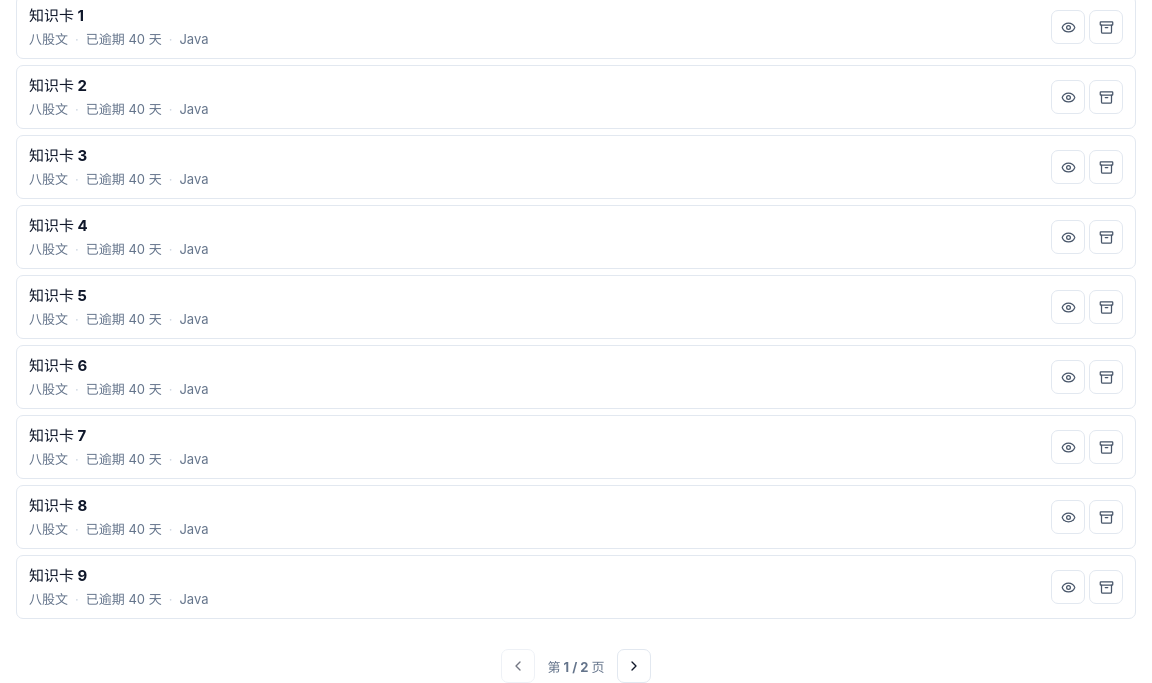
Test: 统一知识卡复习列表 › 读取完整分页，搜索标签，筛选到期并分页显示
(page scrolled)
Expected: the heading "知识卡 11" is not shown
Click the button named "下一页". click: (634, 666)
box: [617,649,651,682]
(page scrolled)
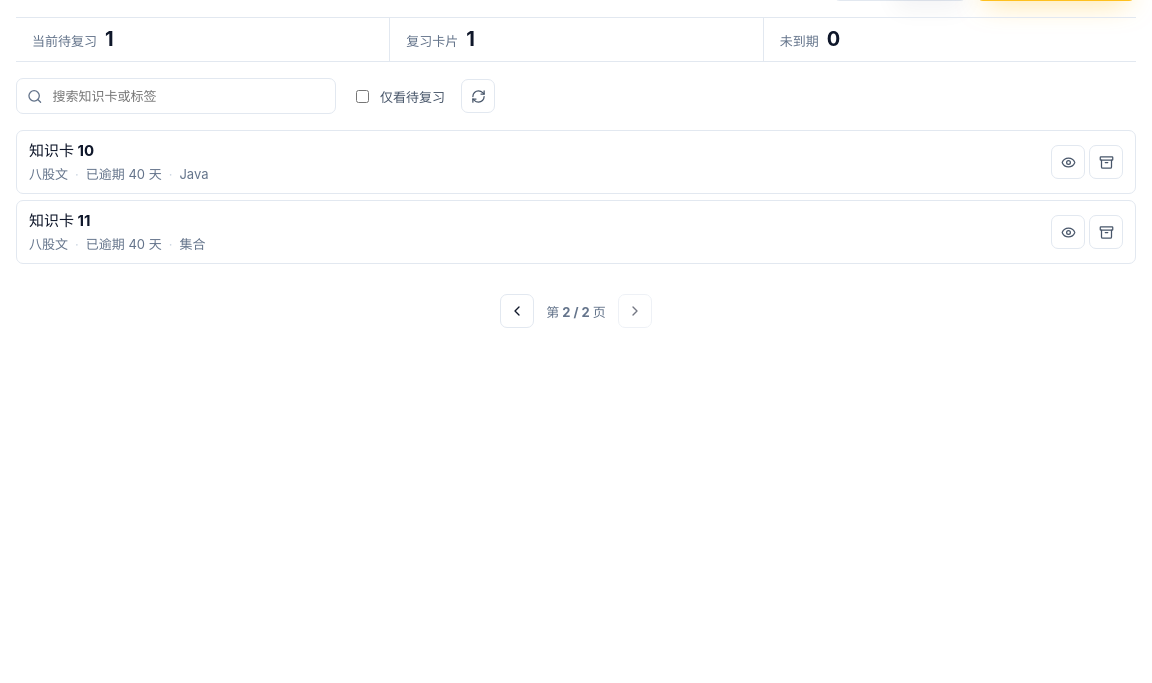
Result: the heading "知识卡 11" is shown at [29,211,90,230]
Type "集合" into the field. click: (189, 96)
box: [52,81,325,111]
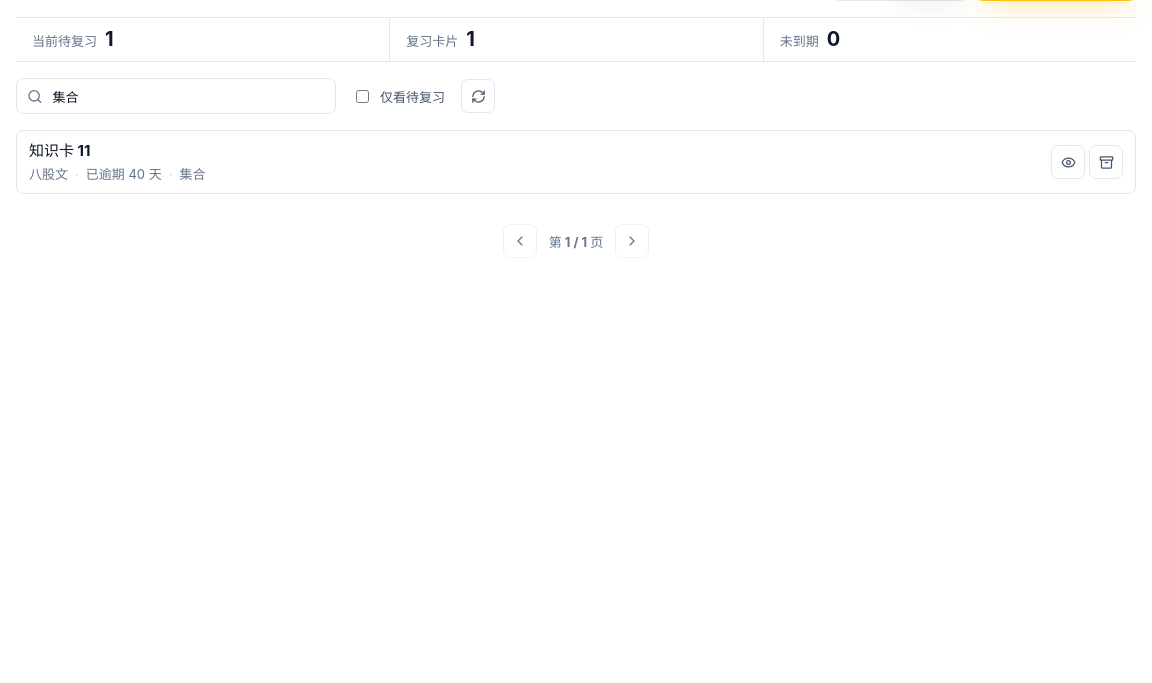
Result: the heading "知识卡 10" is gone
Clear the field. click: (189, 96)
box: [52,81,325,111]
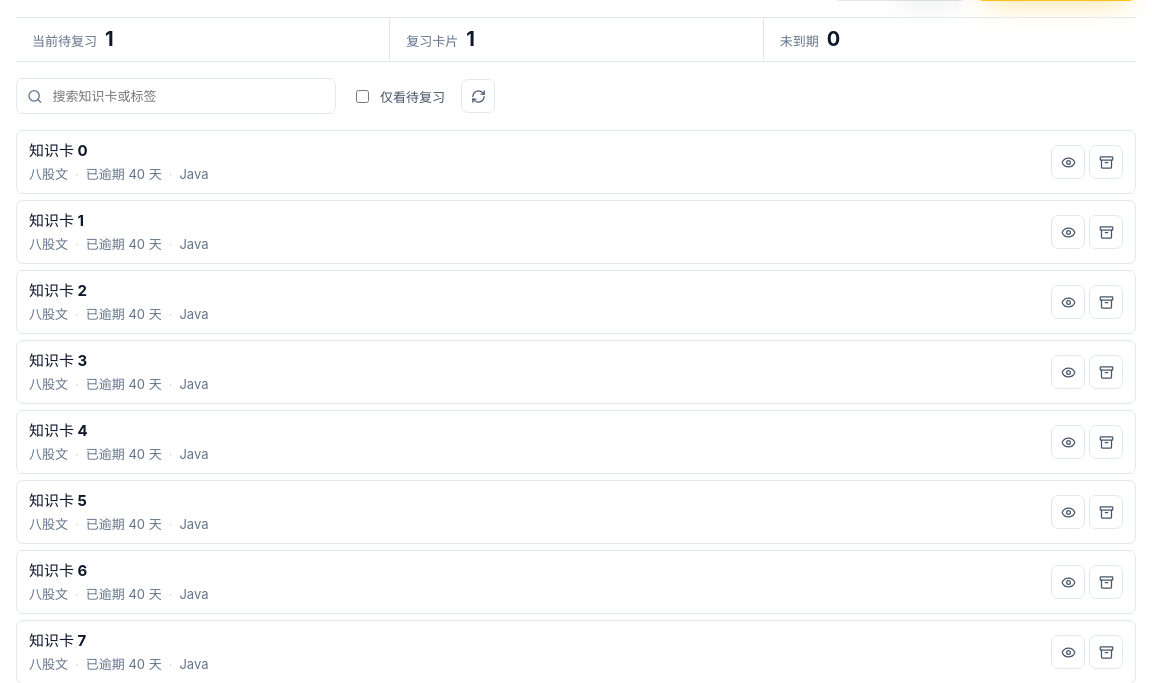
Click the checkbox labelled "仅看待复习". click: (362, 96)
box: [356,90,369,102]
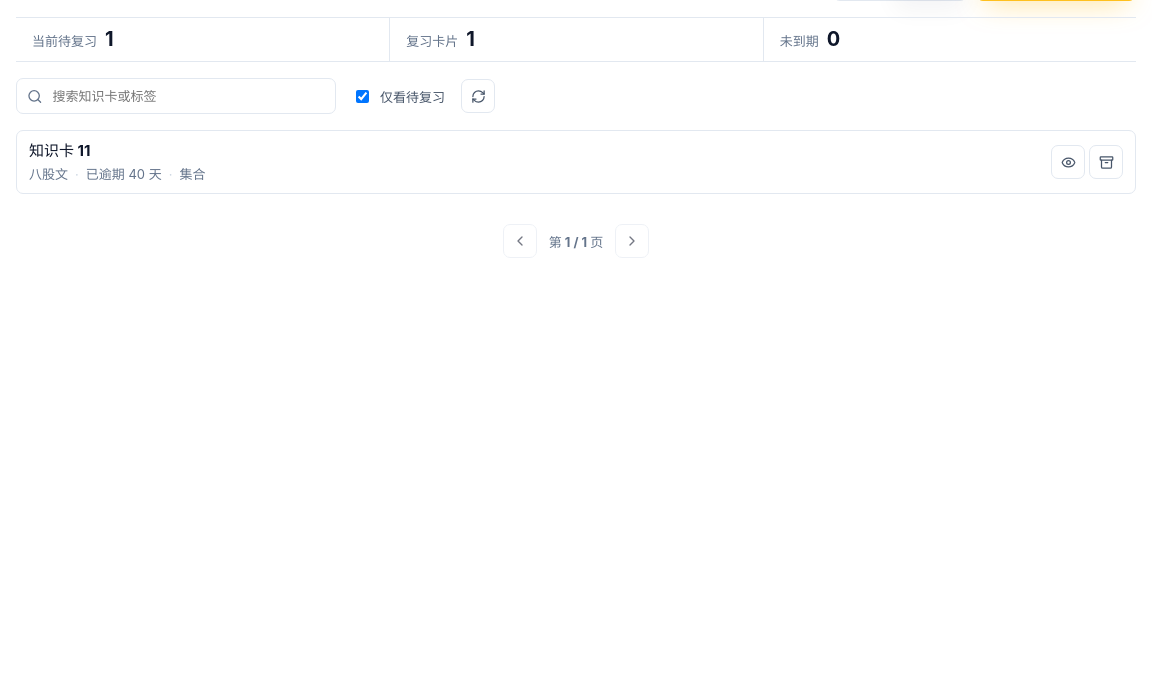
Result: the heading "知识卡 11" is shown at [29,141,90,160]
Result: the heading "知识卡 0" is gone
